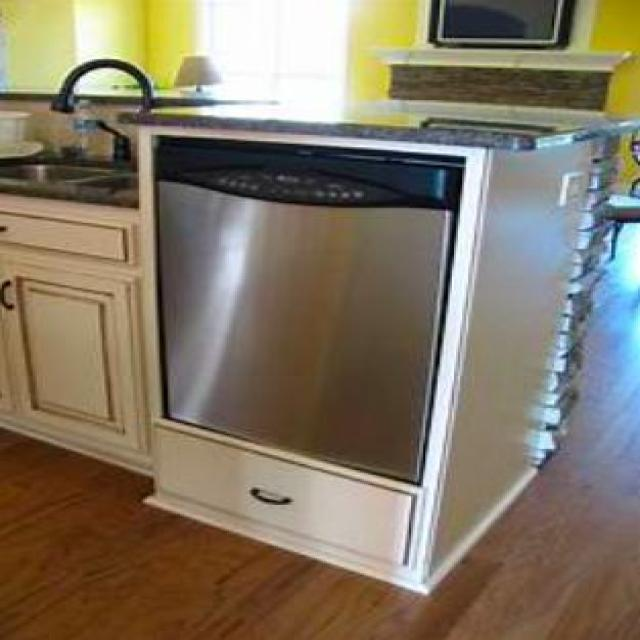dishwasher: (162, 133, 462, 487)
